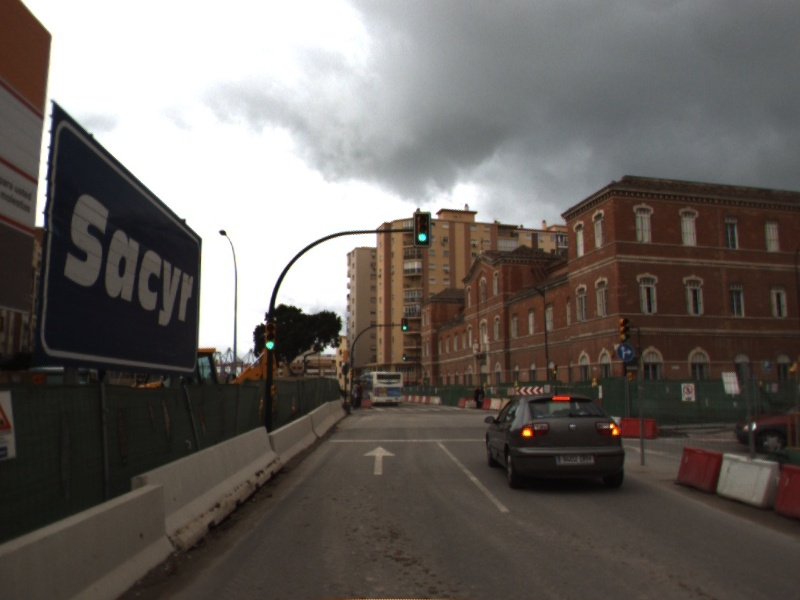STRAIGHT: (361, 445, 398, 476)
